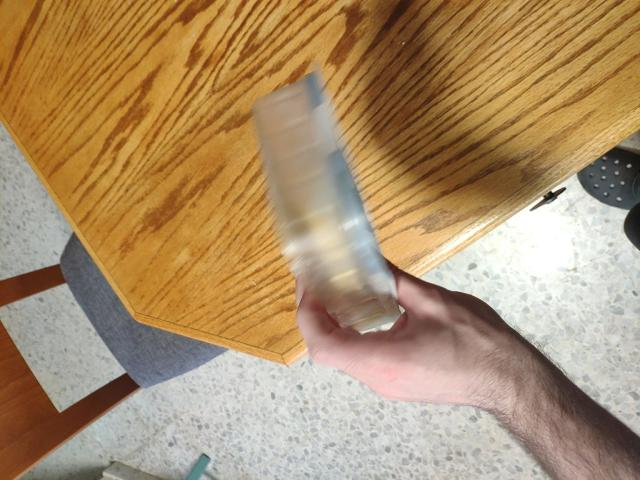cheese: (266, 66, 371, 358)
